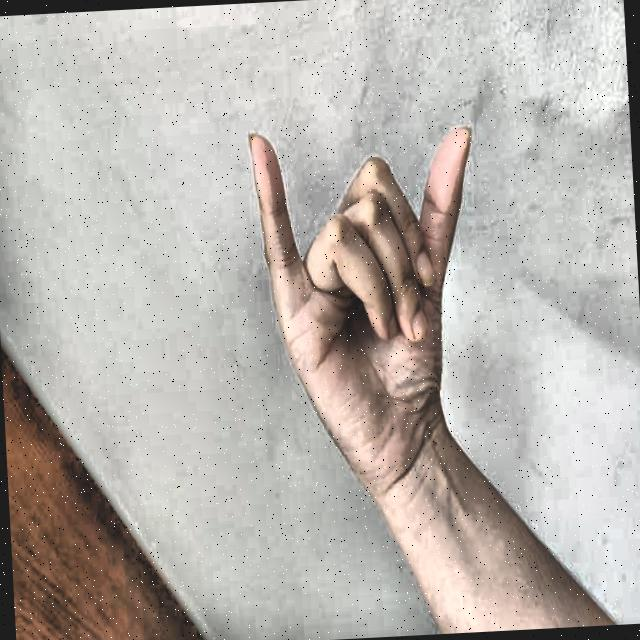Oi: (222, 59, 504, 515)
